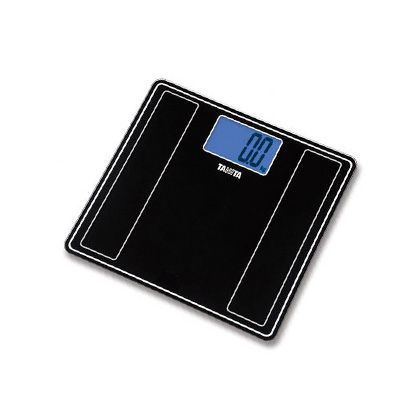LCD: (205, 116, 283, 175)
